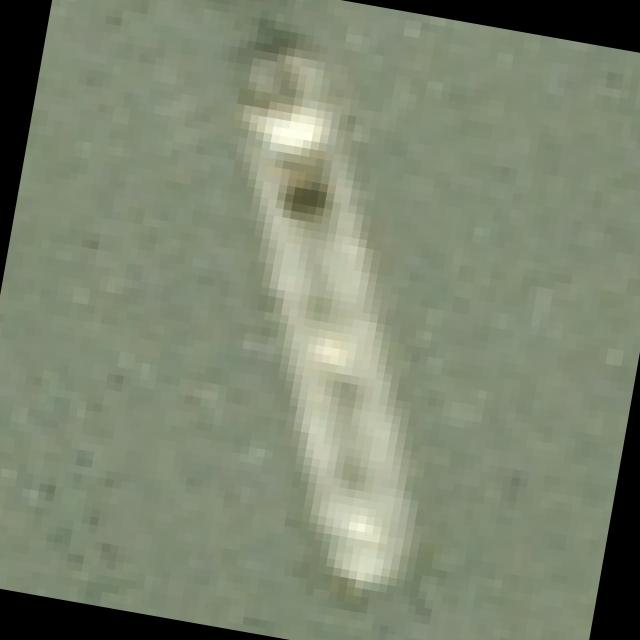ship: (124, 0, 533, 640)
